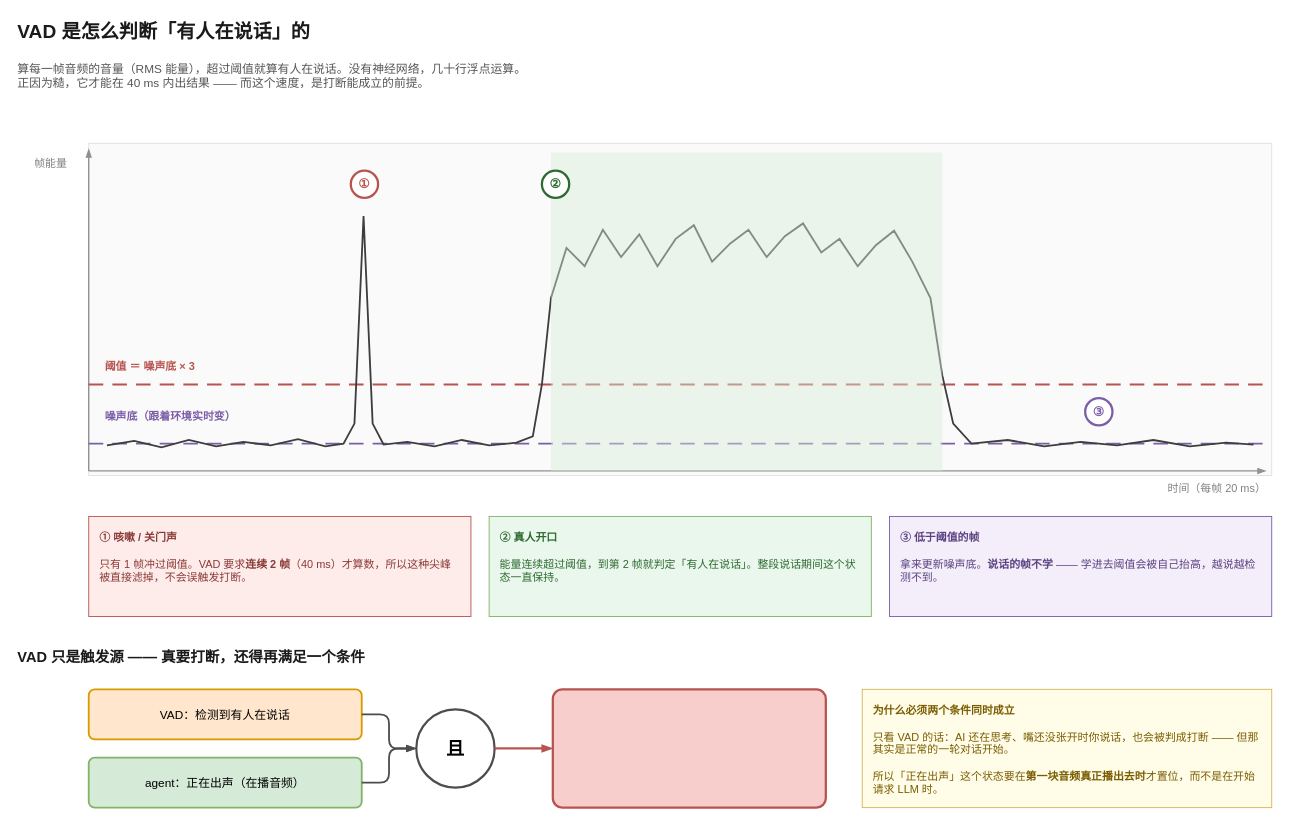
Image size: 1289x824. Some labels were removed from this diagram. Here are the shapes that lost their labels. From the top down, the box of each, then its label:
(551, 152, 942, 470): 判定「有人在说话」
(551, 688, 827, 808): 触发打断 ① cancel 掉 LLM 和 TTS ② 清空服务端未发出的队列 ③ 通知前端停掉已排期的音频
